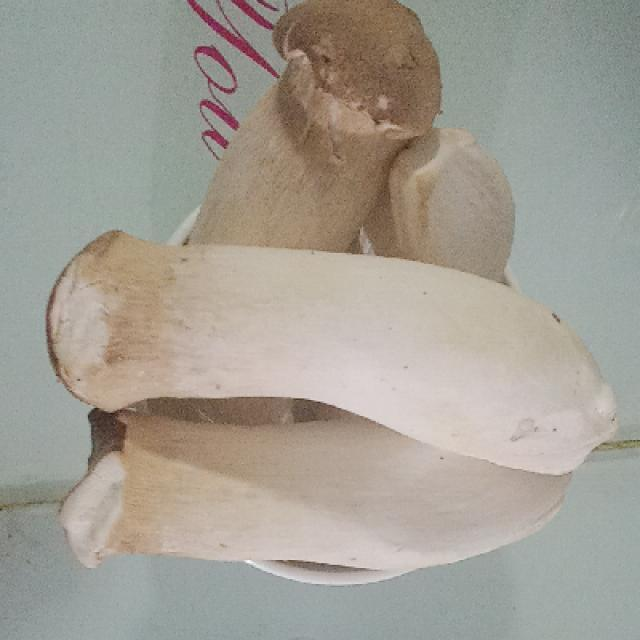Pleurotus eryngii: (47, 2, 616, 571)
